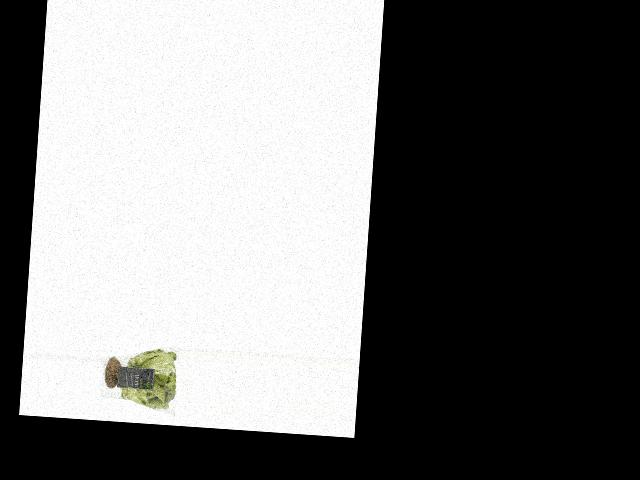lettuce: (98, 342, 179, 413)
